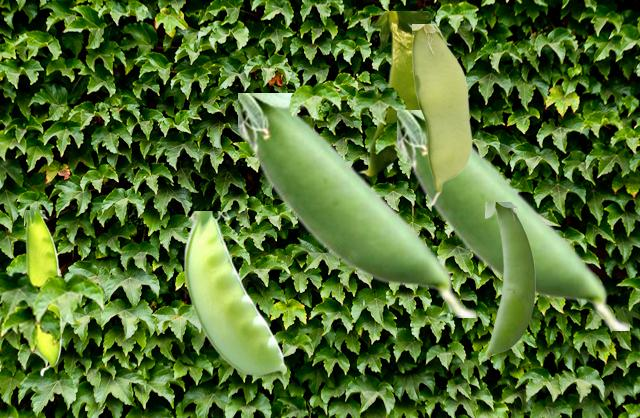pea: (238, 93, 474, 316), (397, 110, 628, 329), (183, 211, 285, 384), (358, 11, 429, 176), (412, 24, 471, 205), (485, 202, 534, 358), (24, 210, 60, 375)
